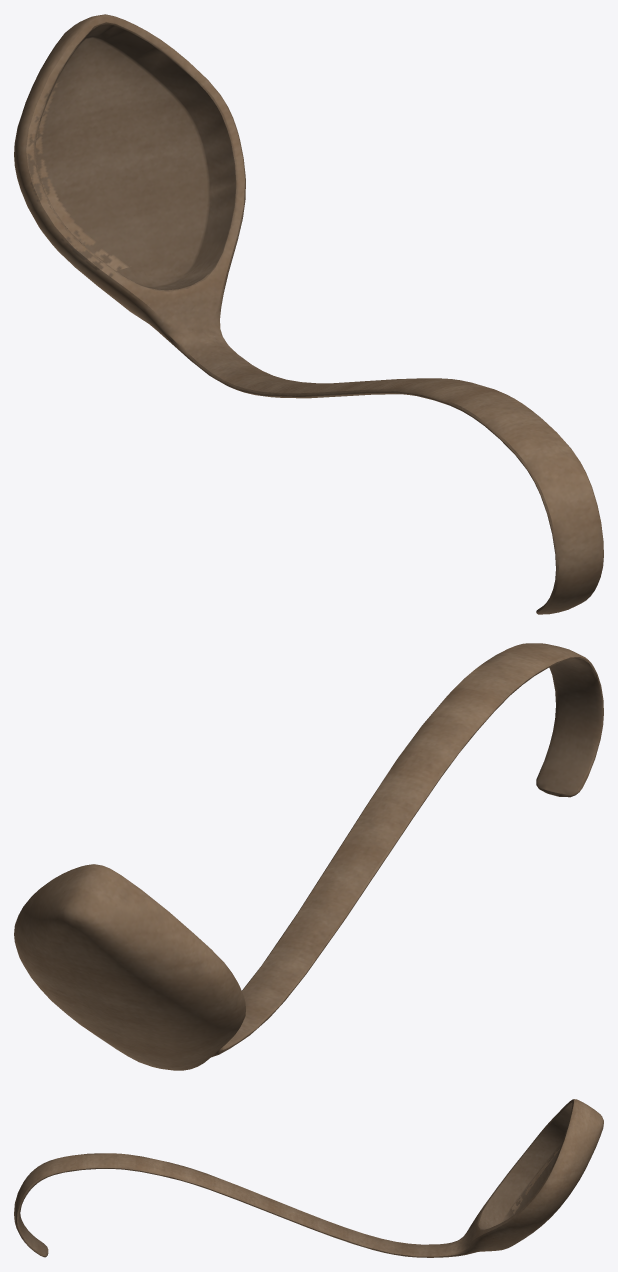
The model's file is kitchenware_ladle_a01.glb.
3 views of the same model, one above another, from view 1: azimuth 30°, elevation 25°; view 2: azimuth 150°, elevation 25°; view 3: azimuth 270°, elevation 25° (orthographic). The views are drawn at different scales.
Parts seen in each view (by area): view 1: kitchenware_ladle_a01_lod1; view 2: kitchenware_ladle_a01_lod1; view 3: kitchenware_ladle_a01_lod1.
Boxes of the visible parts, x1=… form: kitchenware_ladle_a01_lod1: x1=14, y1=14, x2=603, y2=614; kitchenware_ladle_a01_lod1: x1=14, y1=643, x2=603, y2=1070; kitchenware_ladle_a01_lod1: x1=14, y1=1099, x2=603, y2=1257.
Bounding box in the file's own units: 0.0763 × 0.0898 × 0.3138.
Materials: 1 (1 with a texture image).
